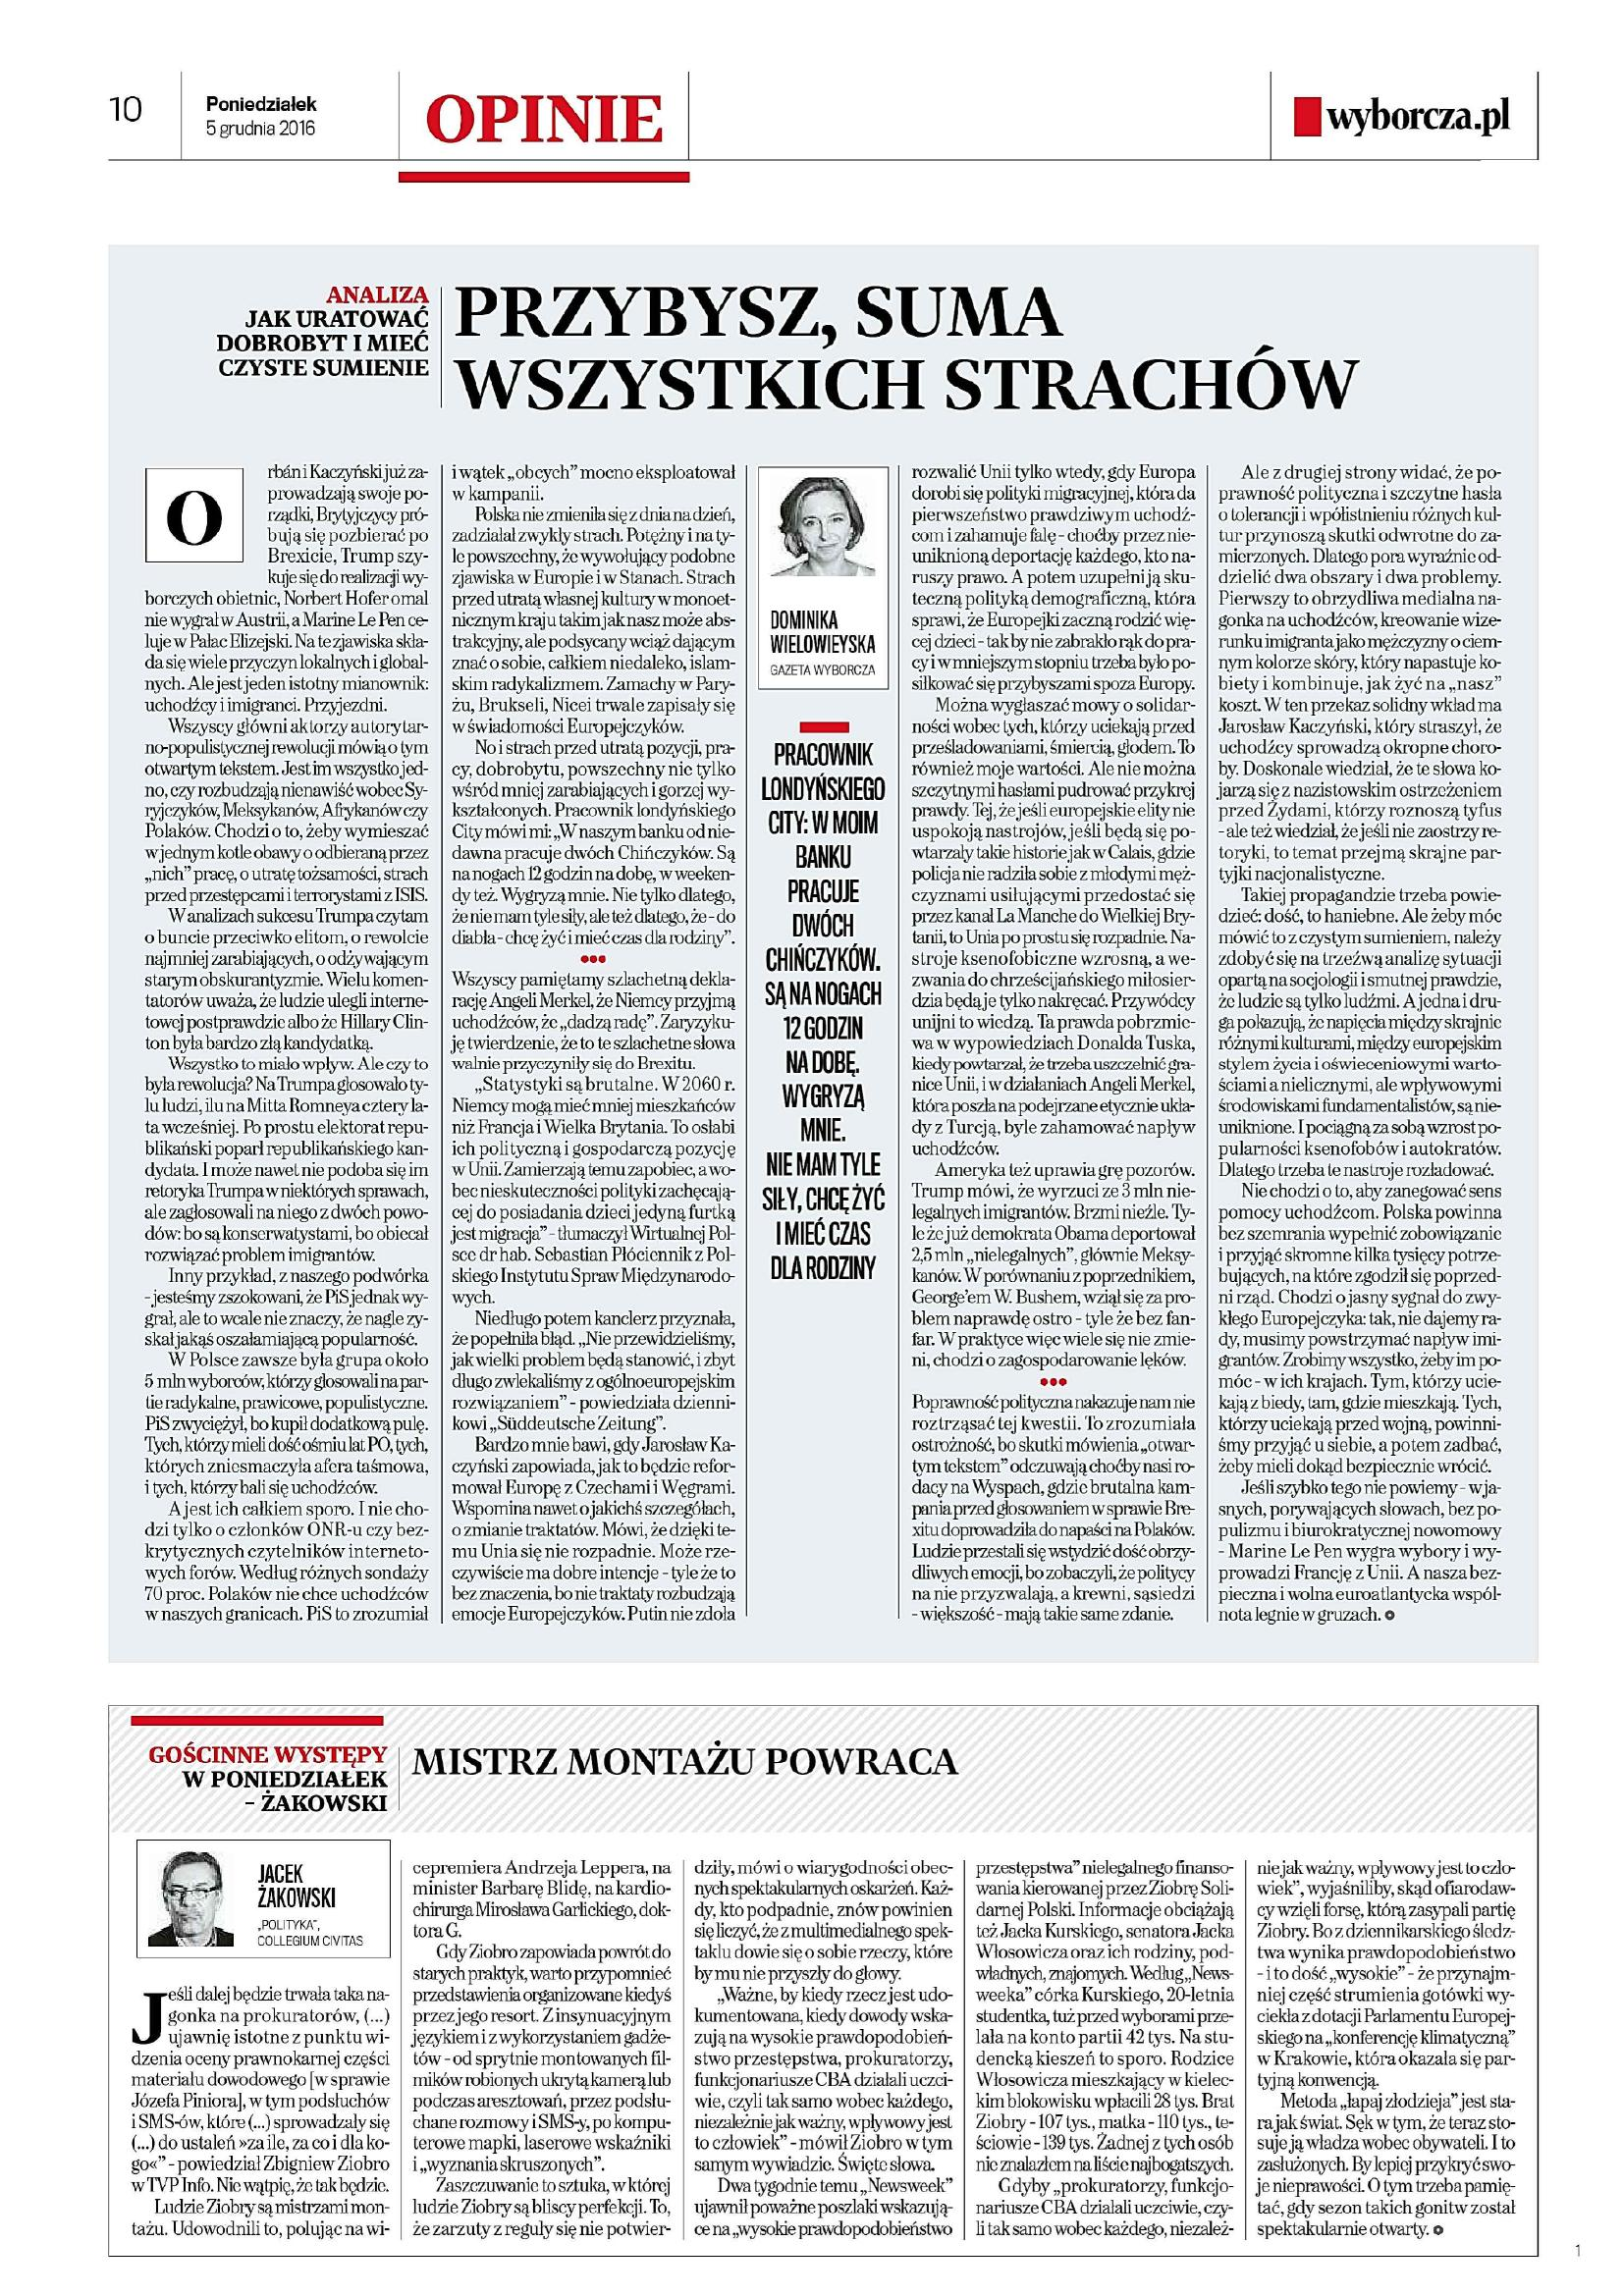article: (119, 258, 1509, 1639), (118, 1710, 1525, 2250)
